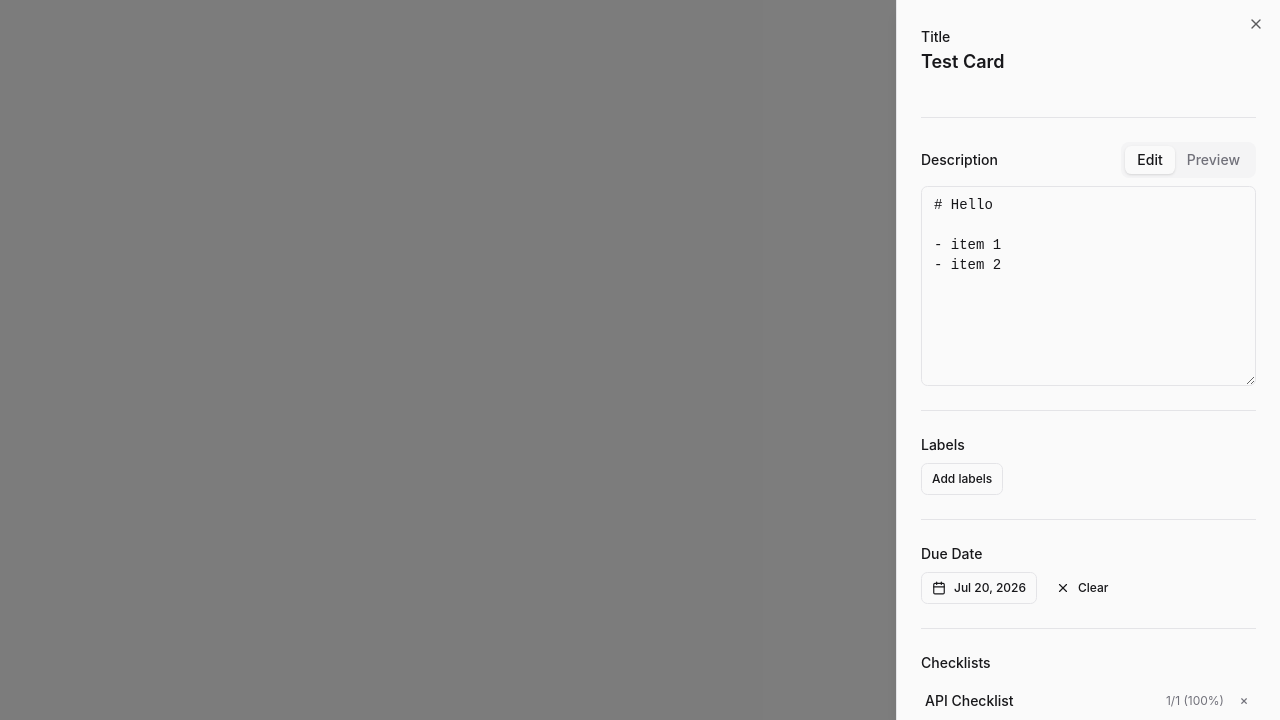
Test case: CardDetailPanel › Markdown description editor › switches to Preview tab and renders markdown
This screenshot has width=1280, height=720.
Click the tab "Preview" at x=1213, y=160, box left=1175, top=146, right=1252, bottom=174
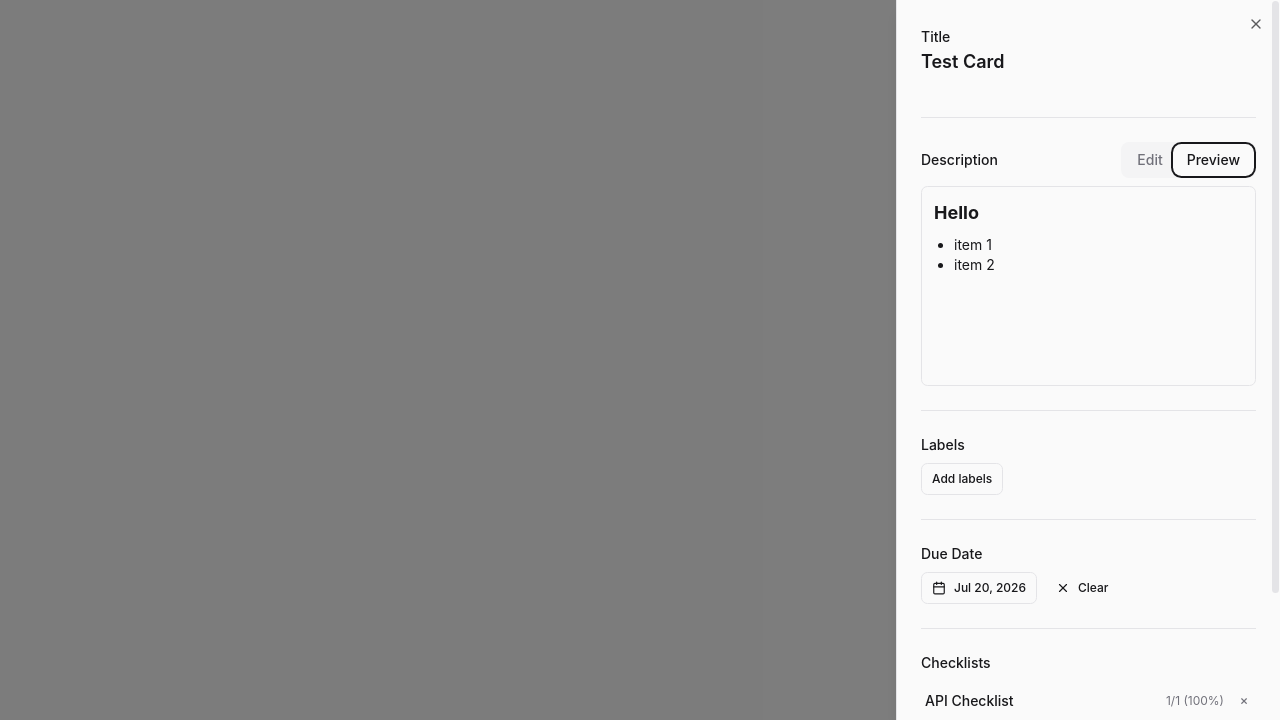
Check: the heading "Hello" is shown, box left=934, top=202, right=979, bottom=223
Check: the list is shown, box left=954, top=236, right=995, bottom=273
